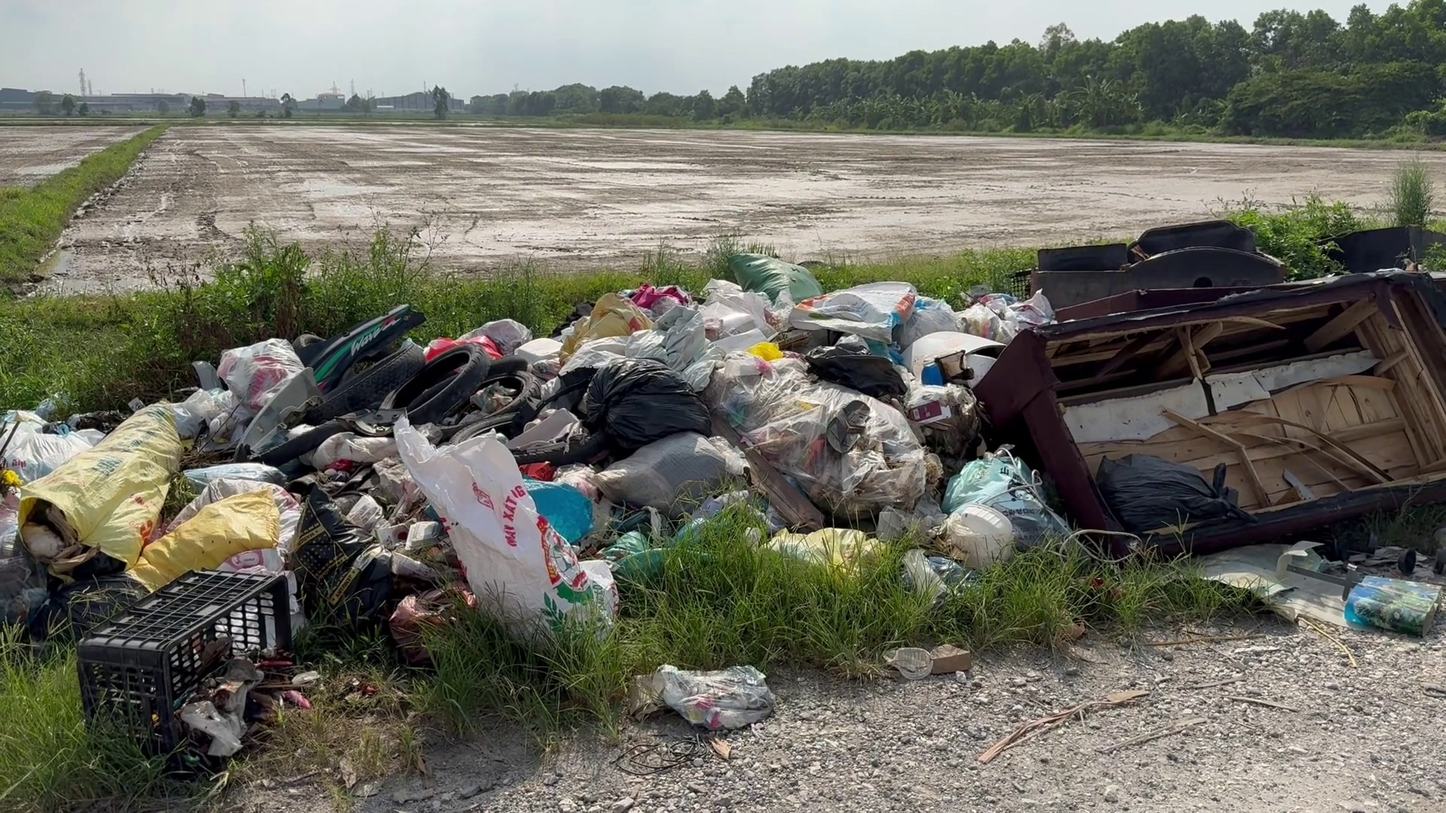garbage: (622, 307, 715, 357)
